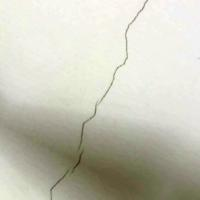crack: (36, 0, 152, 199)
